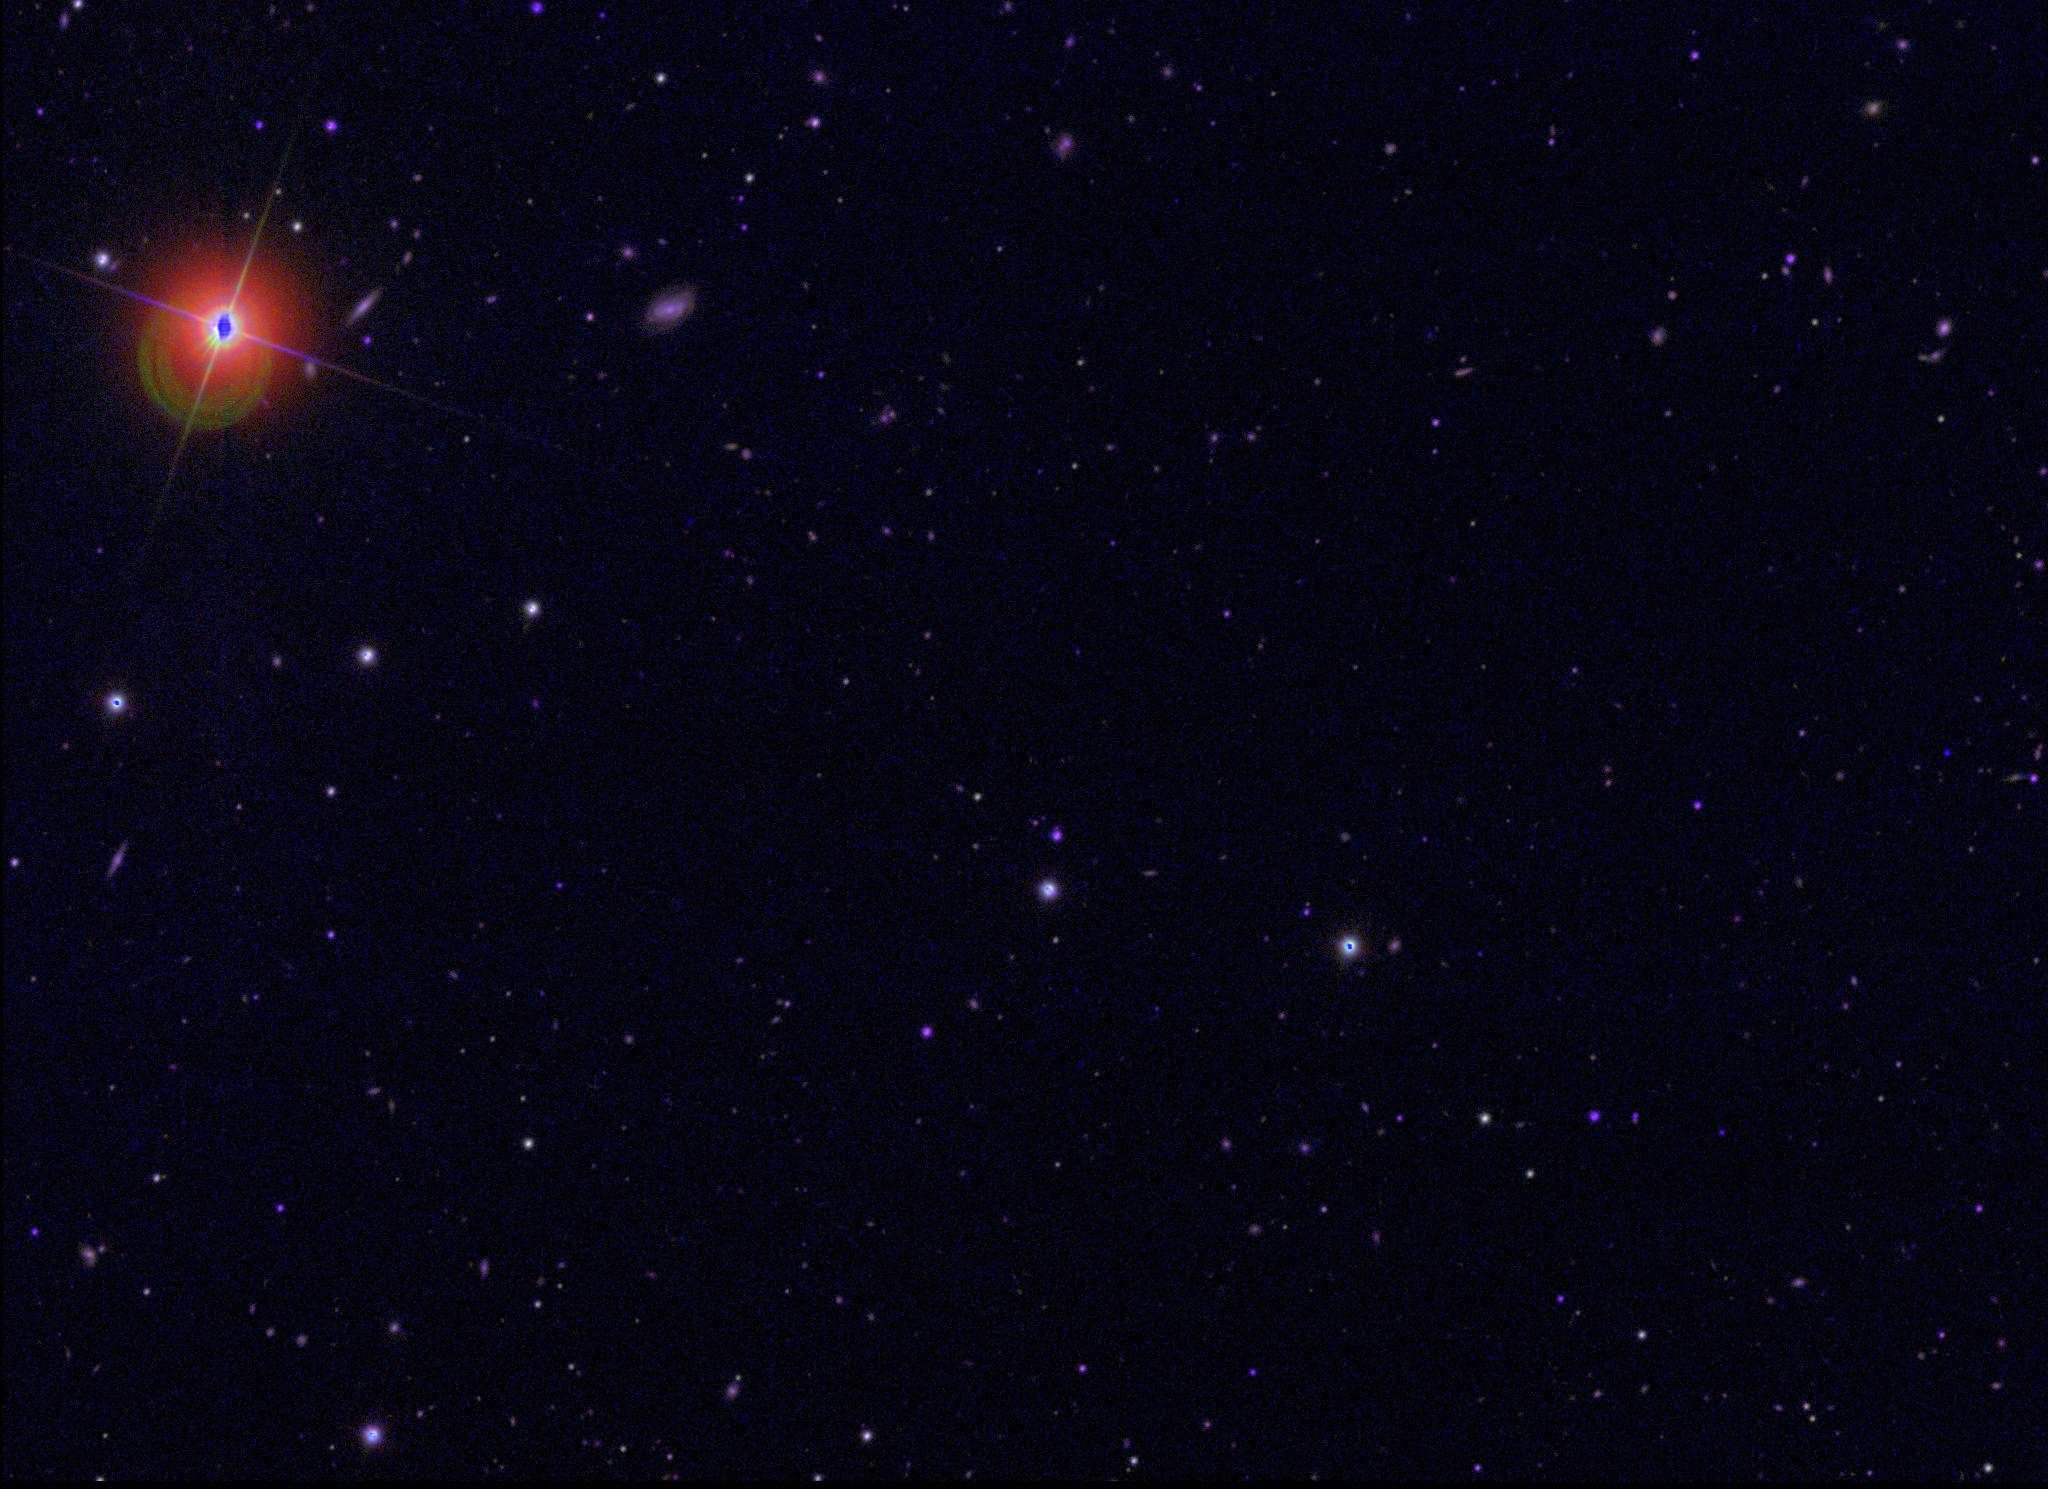L: (1938, 741, 1953, 756)
